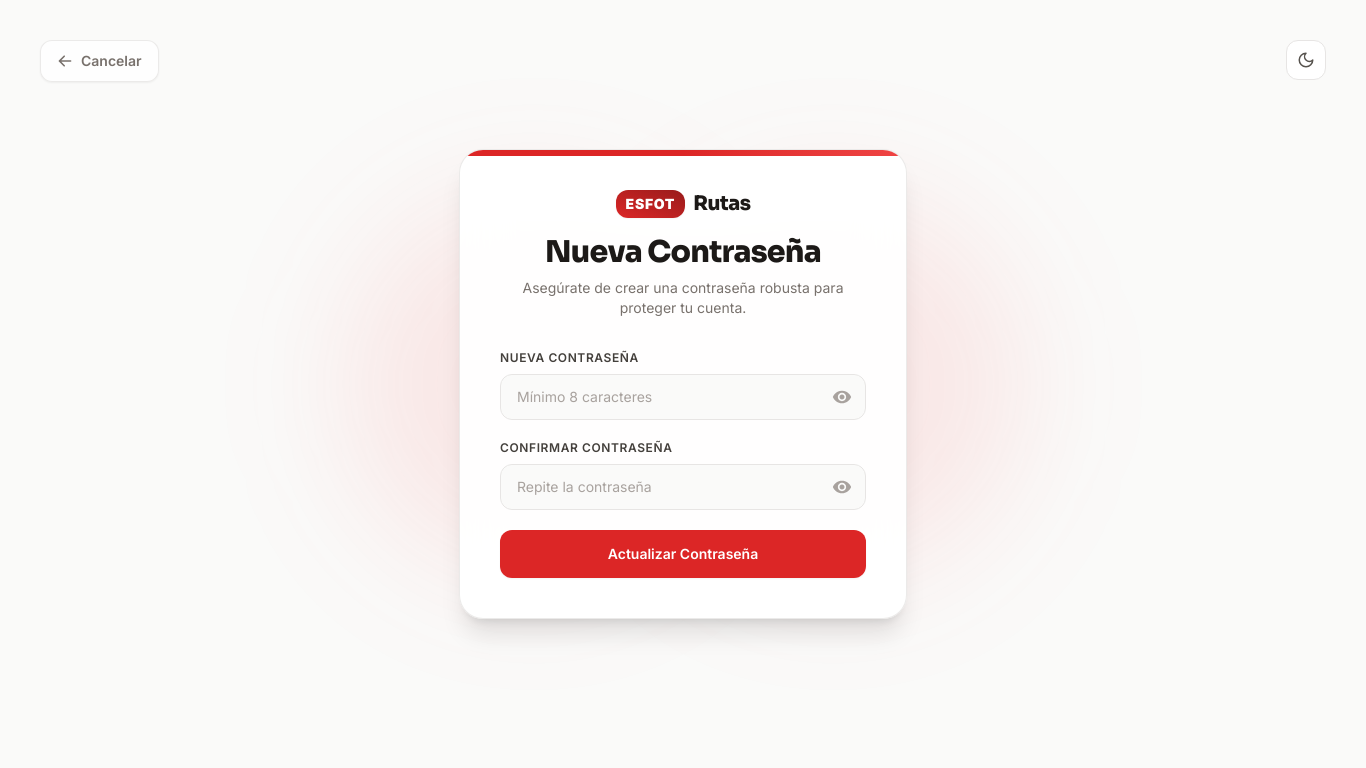
Test: Reset — feedback dentro de la tarjeta › limpia el aviso inline al editar la contraseña
Step 1. Type "NuevaClave123" into the password field with placeholder "Mínimo 8 caracteres" → (683, 397), box top-left (500, 374), bottom-right (866, 420)
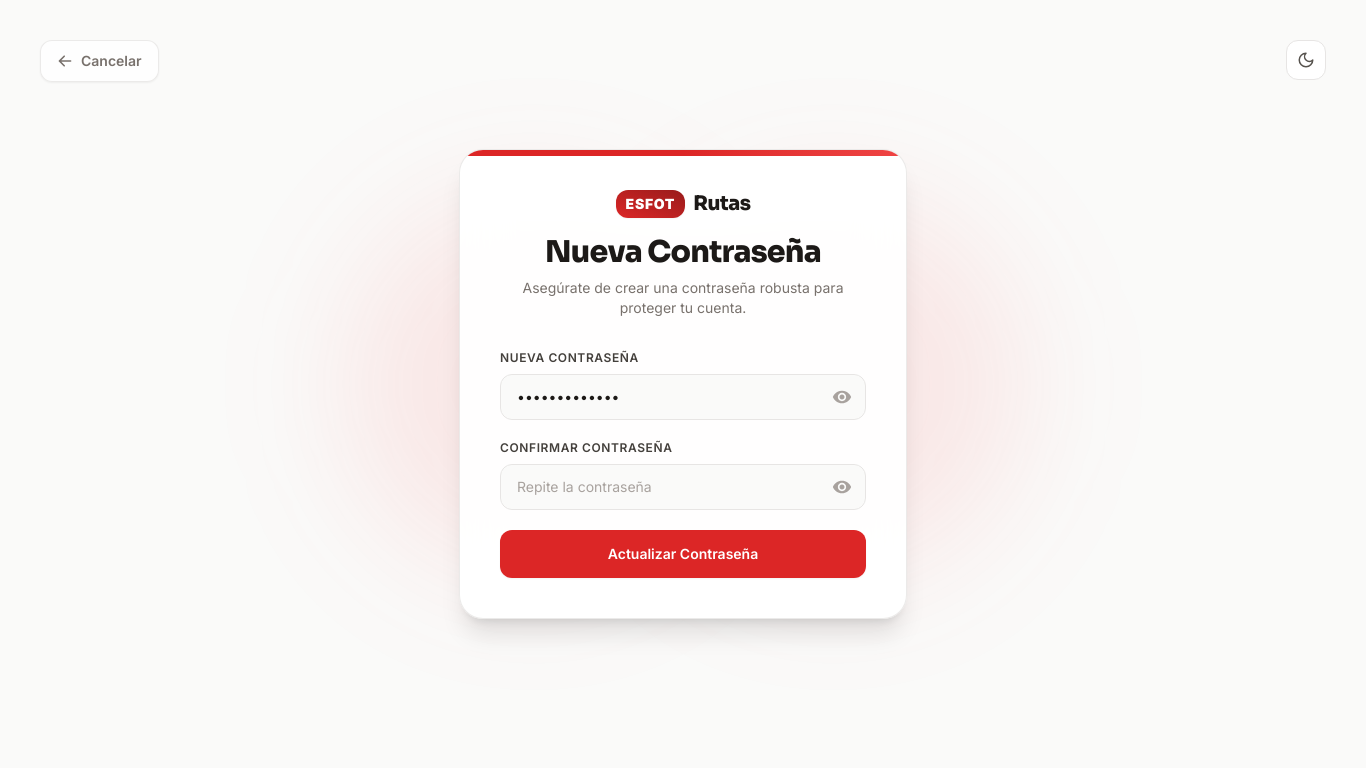
Step 2. Type "NuevaClave123" into the password field with placeholder "Repite la contraseña" → (683, 487), box top-left (500, 464), bottom-right (866, 510)
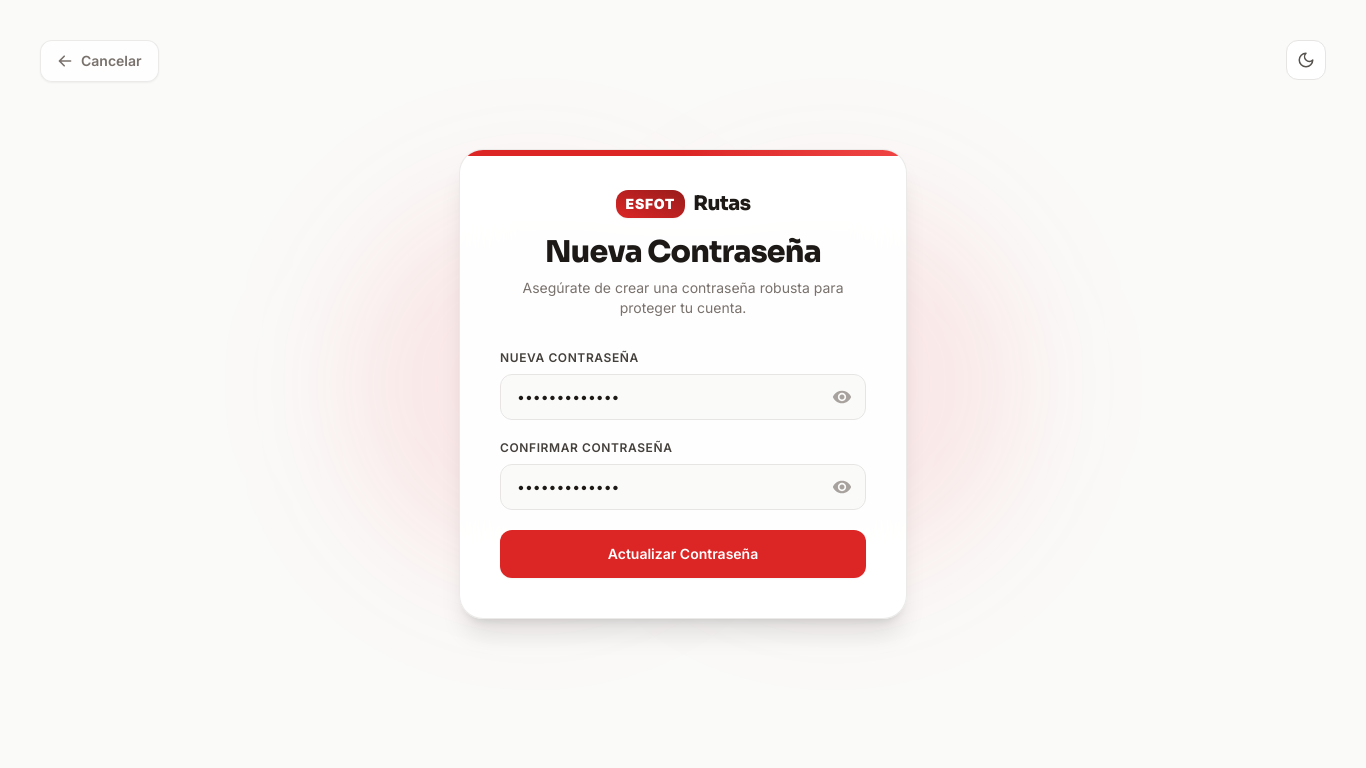
Step 3. Click the button "Actualizar Contraseña" → (683, 554), box top-left (500, 530), bottom-right (866, 578)
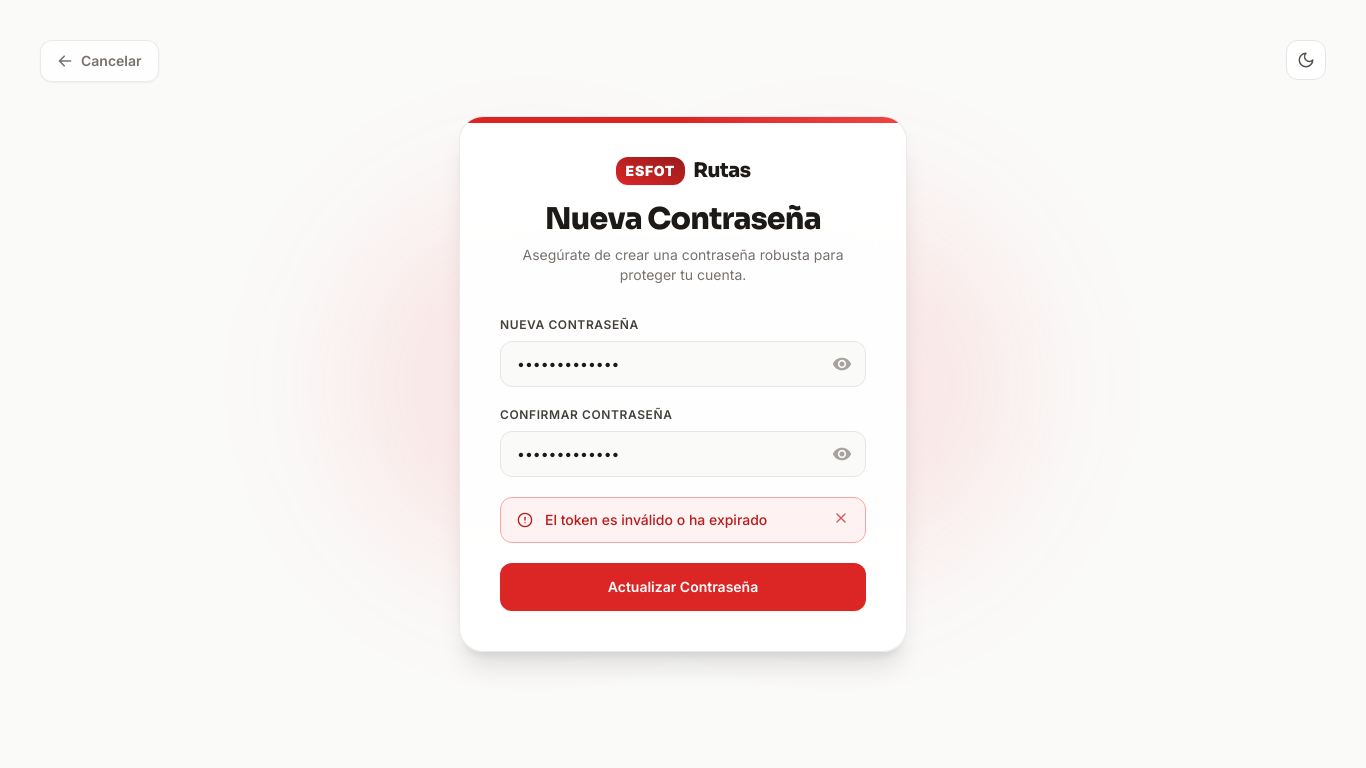
Check: the message "El token es inválido o ha expirado" is shown, box top-left (500, 497), bottom-right (866, 543)
Step 4. Type "OtraClave123" into the 1st password field → (683, 364), box top-left (500, 341), bottom-right (866, 387)
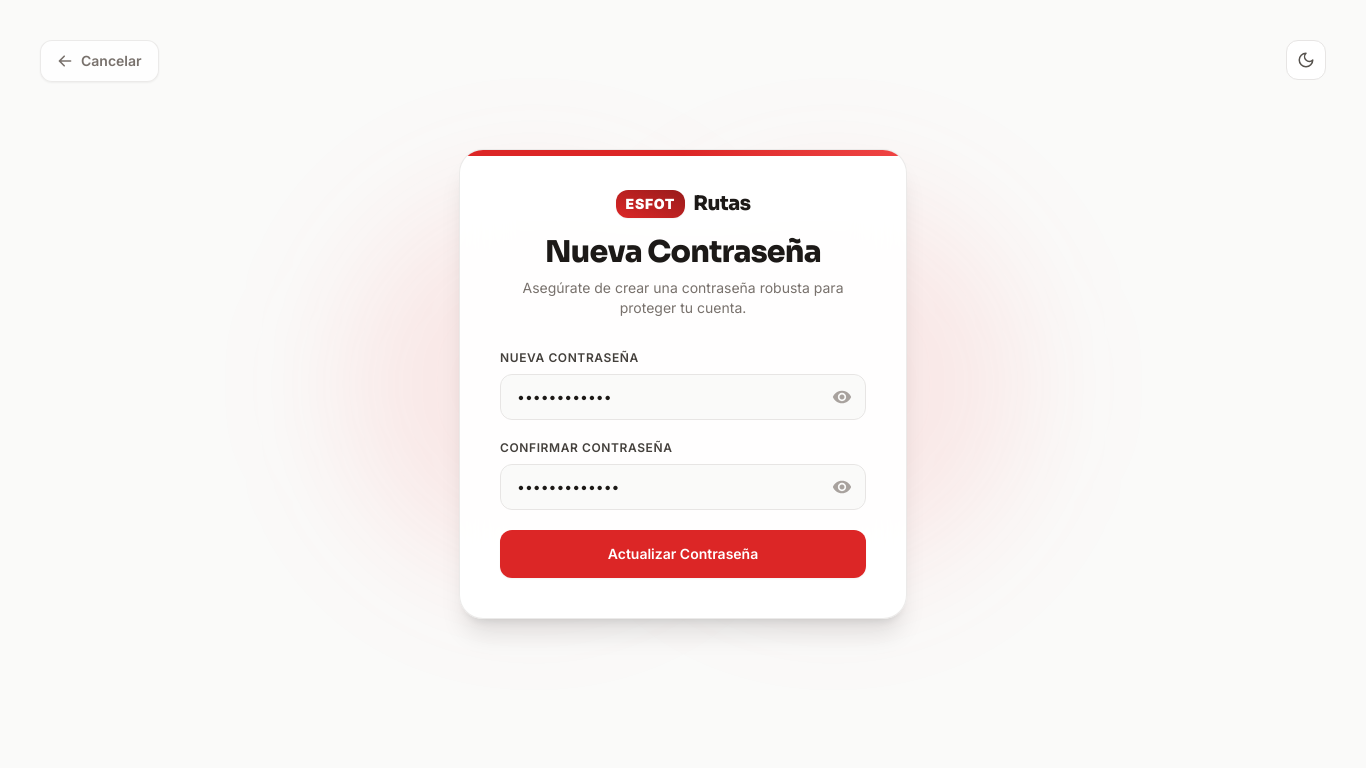
Check: the message "El token es inválido o ha expirado" is gone
